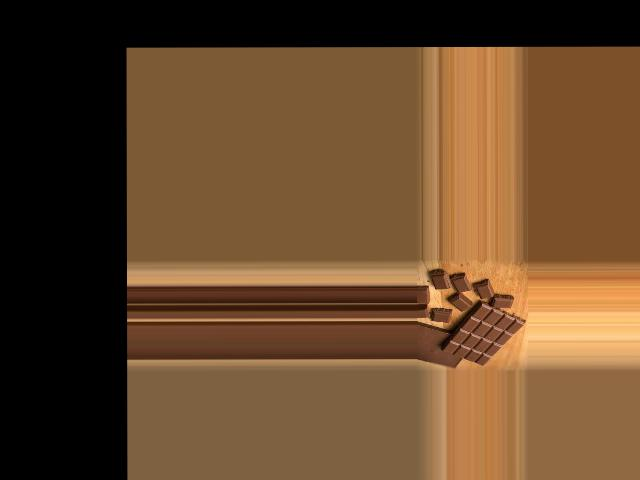chocolate: (441, 297, 523, 365)
